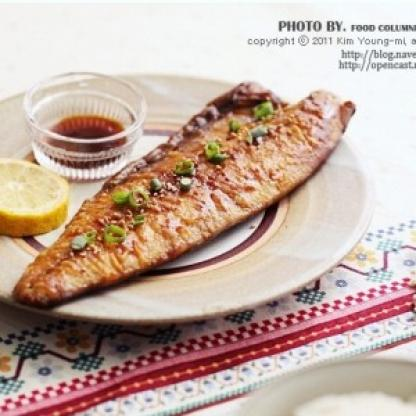Peixe: (0, 69, 379, 308)
